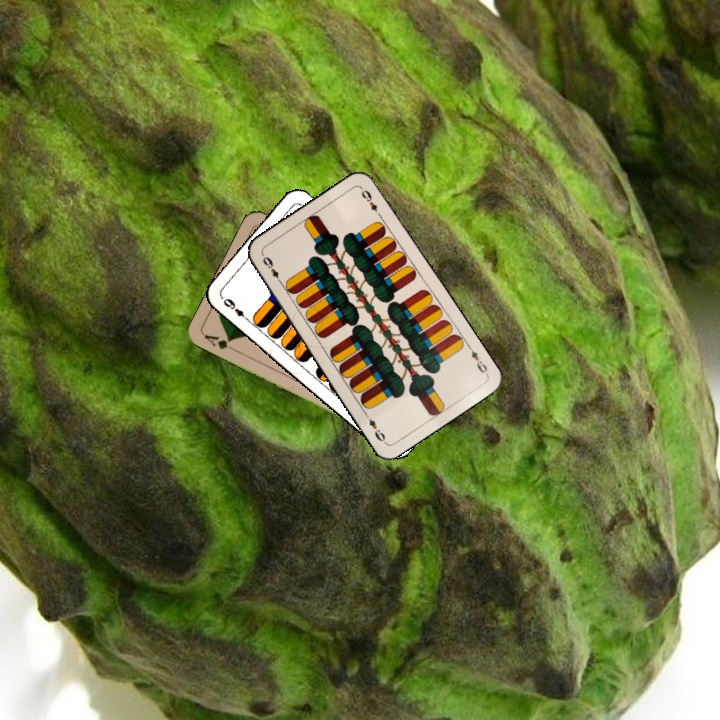E9: (219, 294, 252, 324), (258, 251, 285, 287), (463, 341, 490, 377)
GA: (200, 330, 238, 354)
